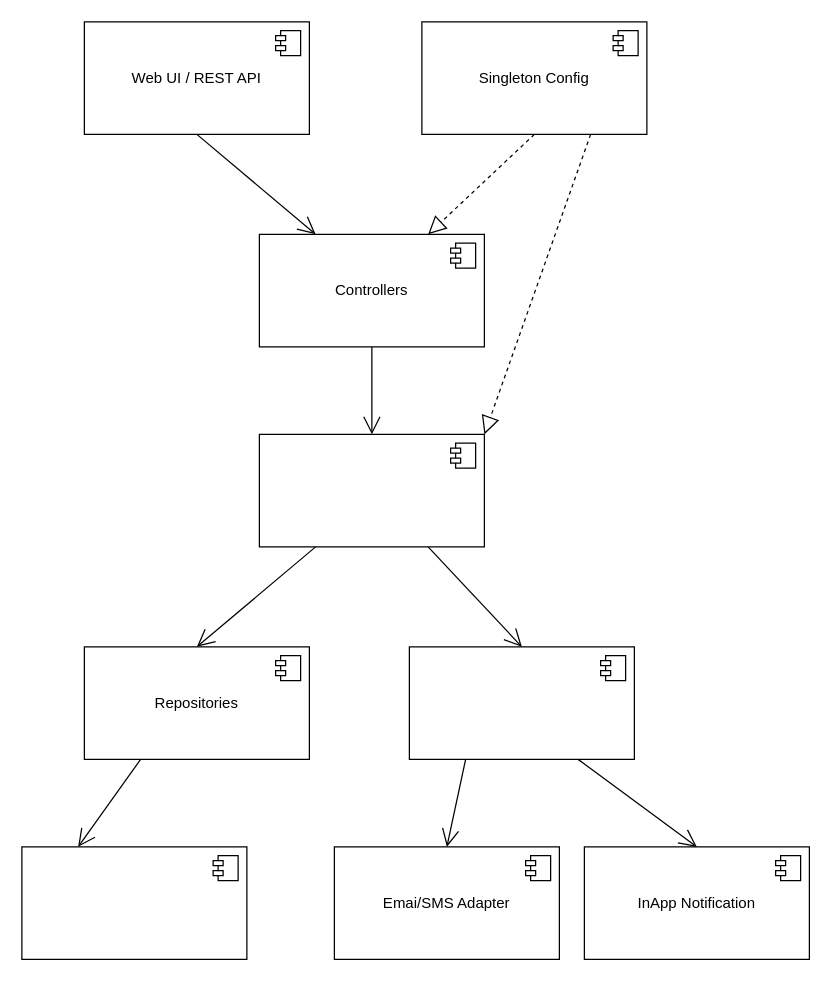
This 831x981 diagram has some shape labels left out. Each missing label, with the box of its shape:
Database: (21, 846, 247, 959)
Notification Facade: (408, 646, 634, 759)
Services: (258, 433, 484, 547)
